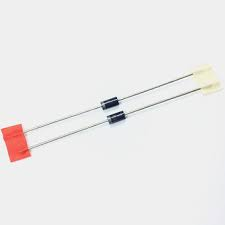diode: (98, 111, 145, 132), (94, 92, 129, 110)
